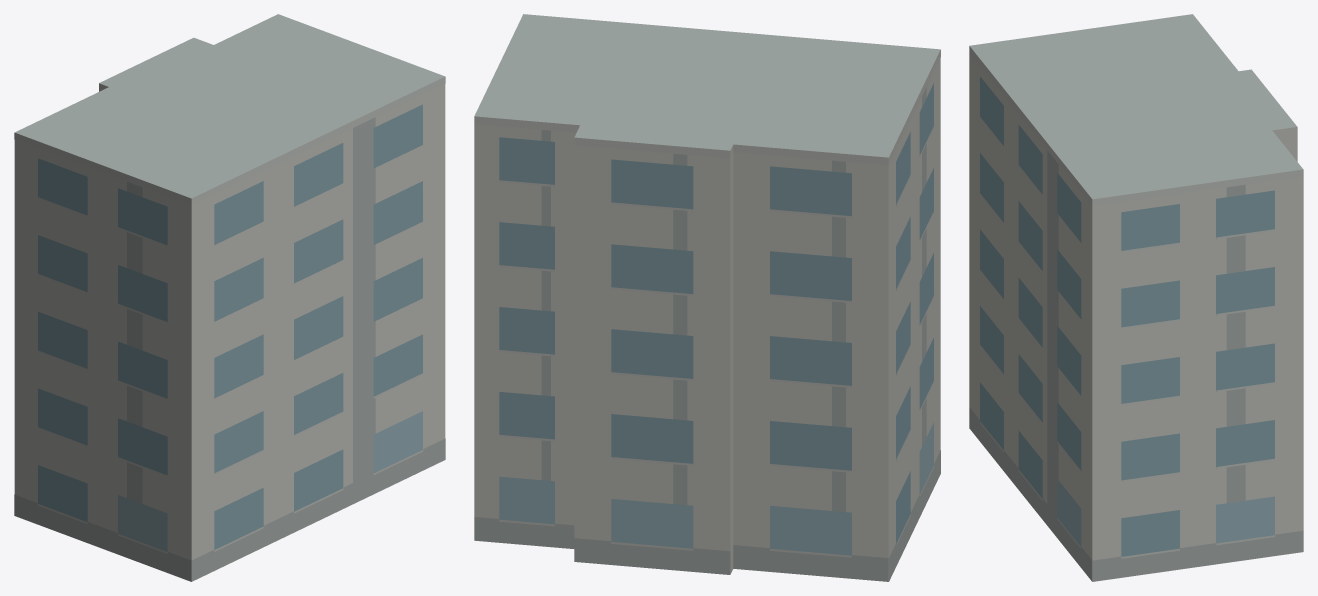
The model's file is survey-upis-32748310.glb.
The picture shows the model from 3 angles, left to right: view 1: azimuth 30°, elevation 25°; view 2: azimuth 150°, elevation 25°; view 3: azimuth 270°, elevation 25°; orthographic projection. The views are drawn at different scales.
Visible parts, largest first — view 1: survey-upis-32748310.tmp; view 2: survey-upis-32748310.tmp; view 3: survey-upis-32748310.tmp.
Part boxes in pixels (bbox=[...]): survey-upis-32748310.tmp: bbox=[14, 14, 445, 581]; survey-upis-32748310.tmp: bbox=[474, 14, 940, 581]; survey-upis-32748310.tmp: bbox=[969, 14, 1303, 581].
Size of the model in its own units: 13.72 by 13.2 by 10.46.
